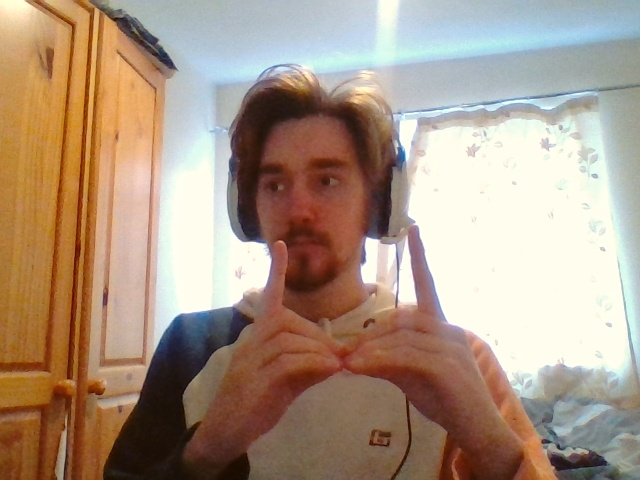meet: (249, 226, 441, 379)
